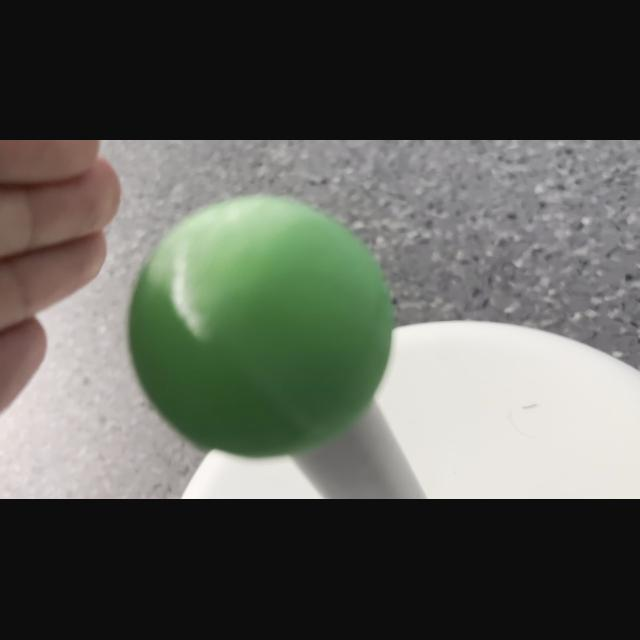objects: (121, 190, 399, 460)
